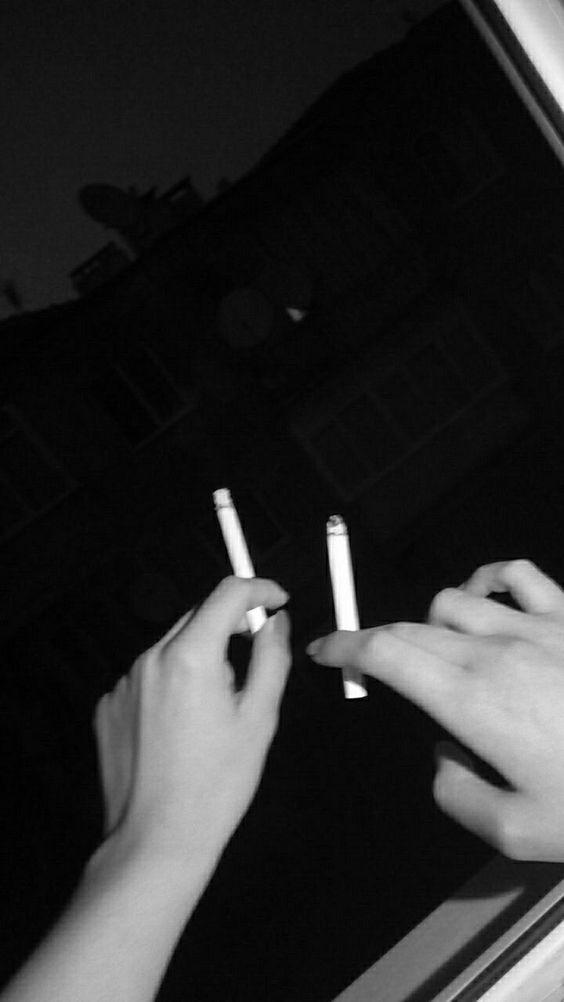cigarette: (214, 488, 269, 636), (326, 514, 367, 700)
